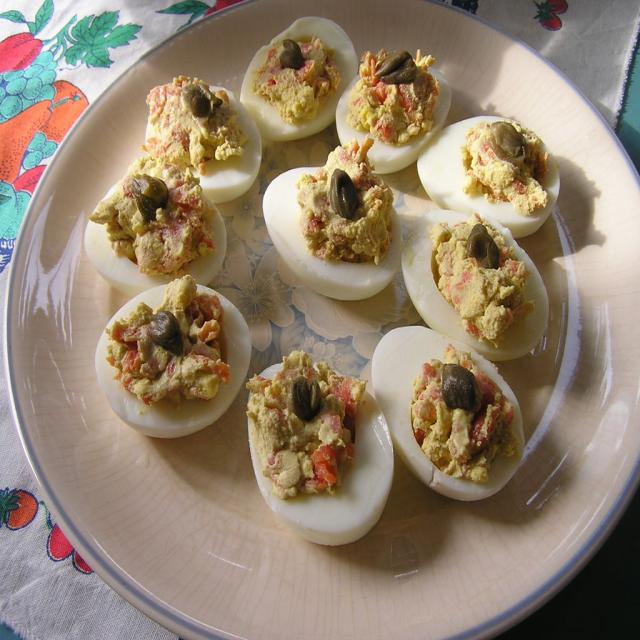Egg: (83, 15, 562, 548)
